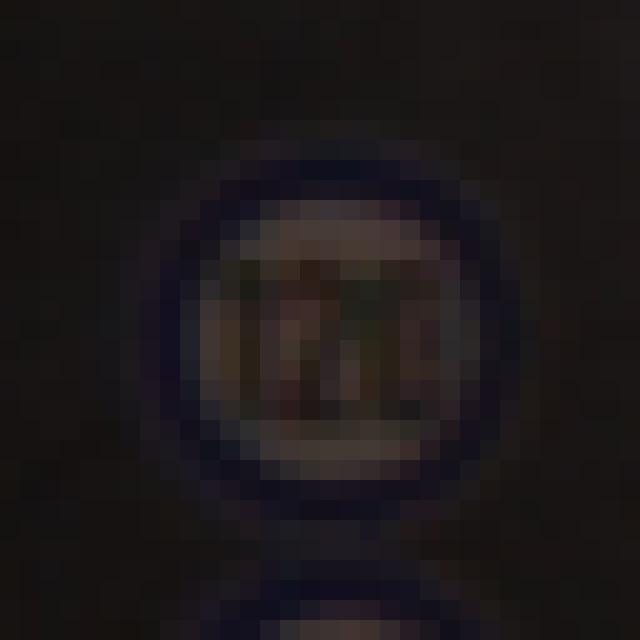SPEED LIMIT 120: (146, 155, 514, 495)
